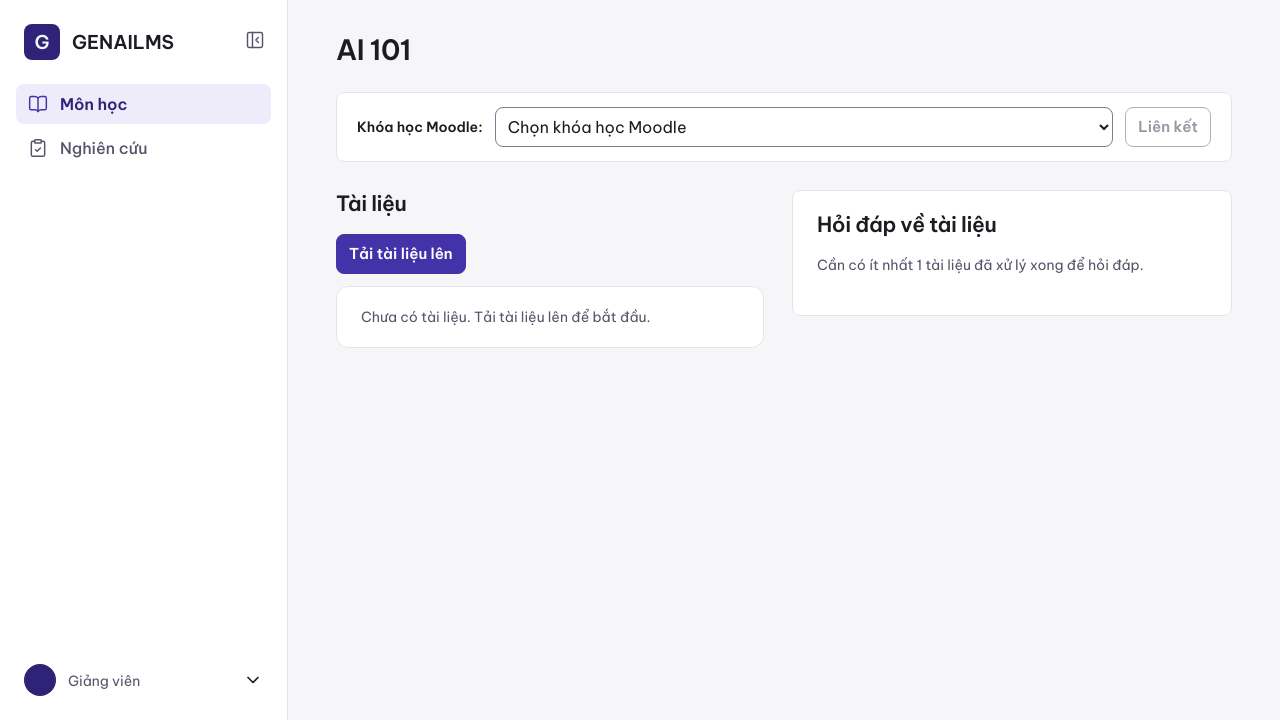
it: CourseDetailPage - Moodle linking › offers authorized Moodle courses, validates empty submit, reports link error, and links the chosen course
Expected: the button "Liên kết" is disabled, [1125,107,1211,147]
Submit the form "Khóa học Moodle: Liên kết", box [357,107,1211,147]
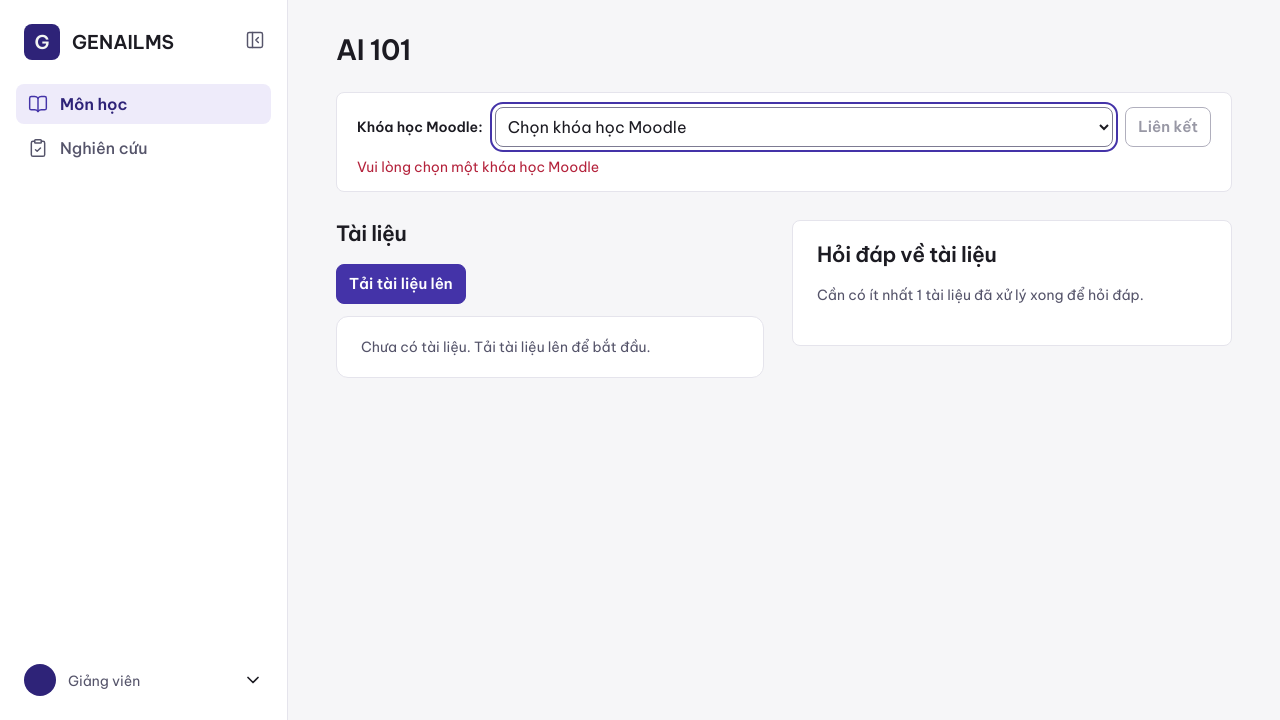
Result: the text "Vui lòng chọn một khóa học Moodle" is shown at [357,158,599,176]
Select "Introduction to Artificial Intelligence (Intro2AI)" in the dropdown named "khóa học moodle" at coordinates (804, 127), box [495,107,1113,147]
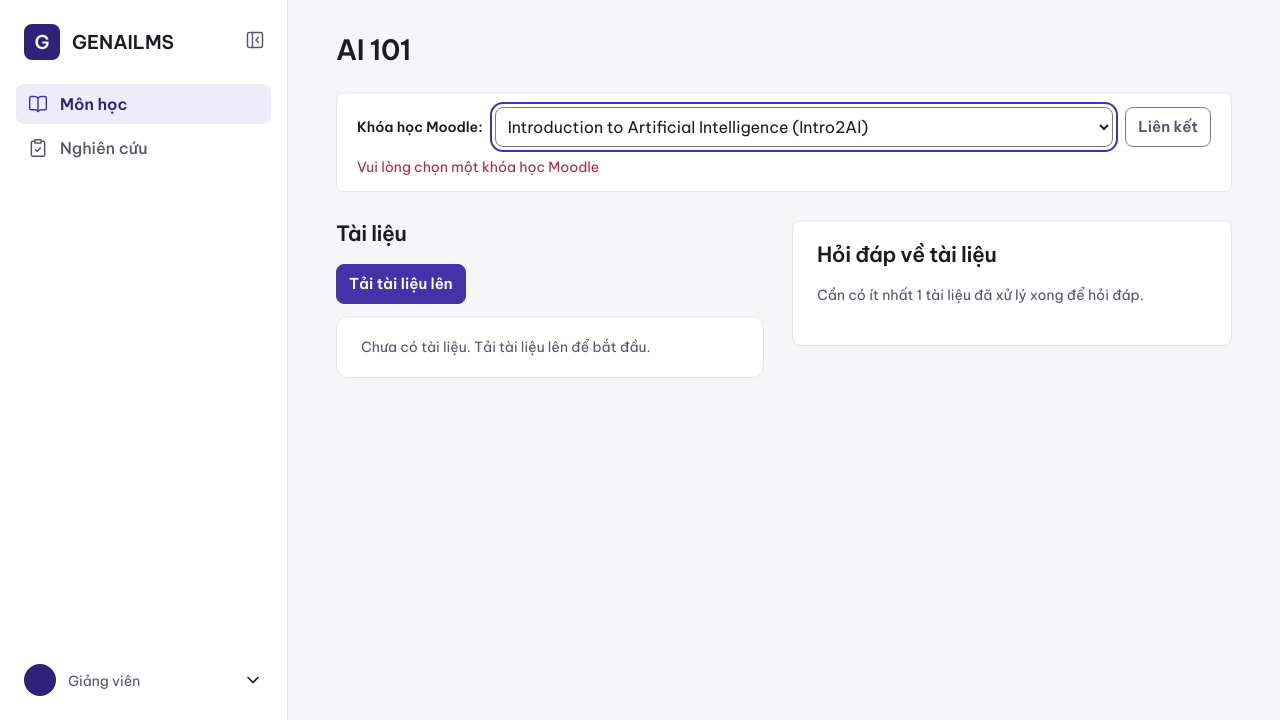
Click the button "Liên kết" at coordinates (1168, 127), box [1125,107,1211,147]
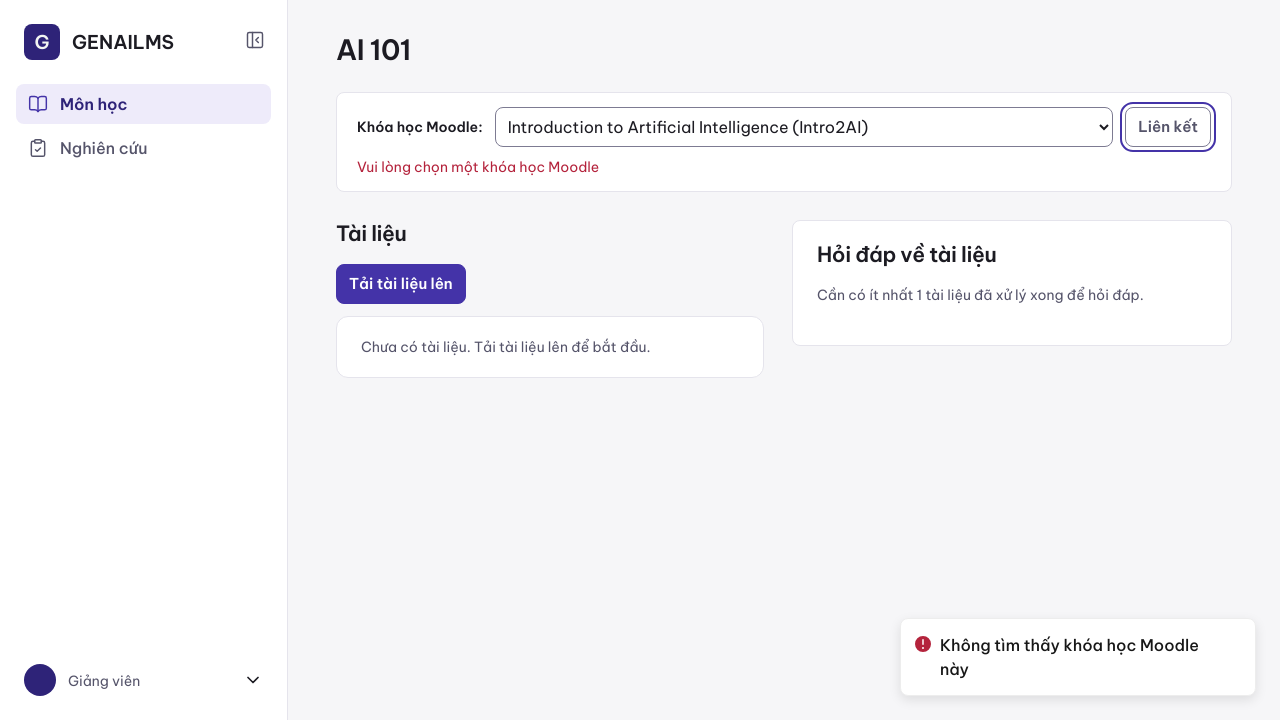
Result: the text "Không tìm thấy khóa học Moodle này" is shown at [940,633,1211,681]
Click the button "Liên kết" at coordinates (1168, 127), box [1125,107,1211,147]
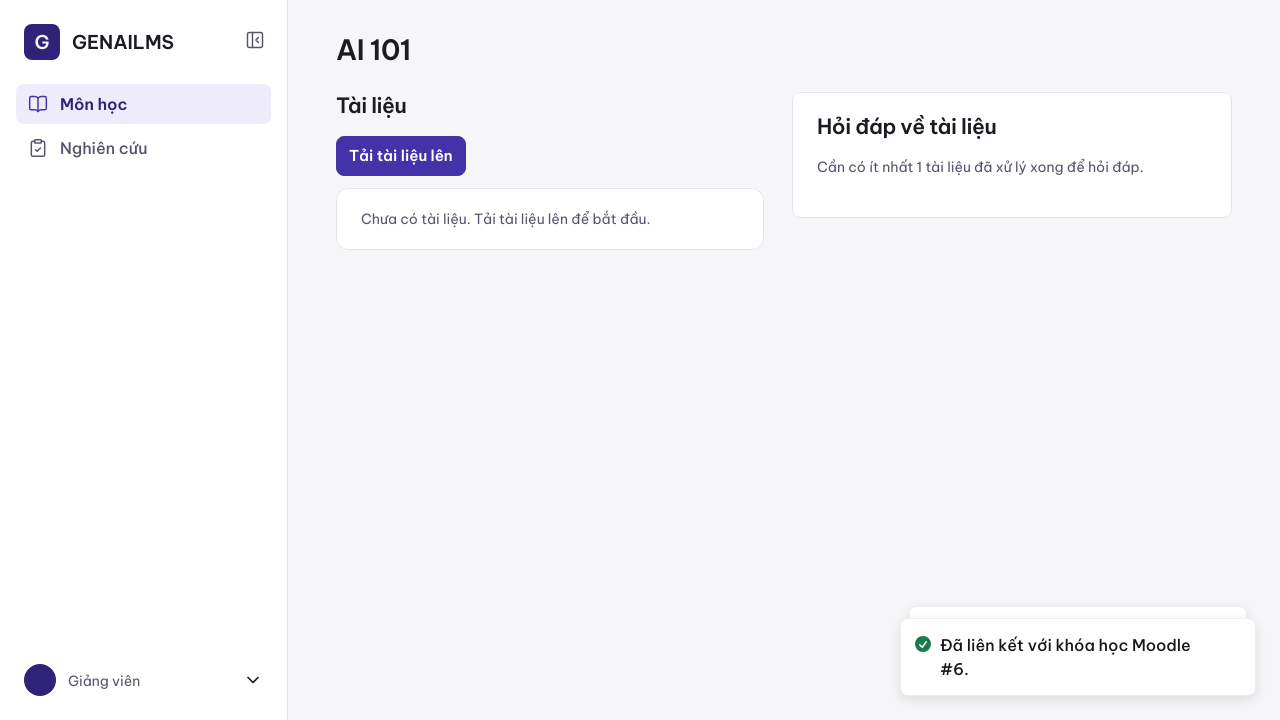
Result: the text "Đã liên kết với khóa học Moodle #6." is shown at [940,633,1211,681]
